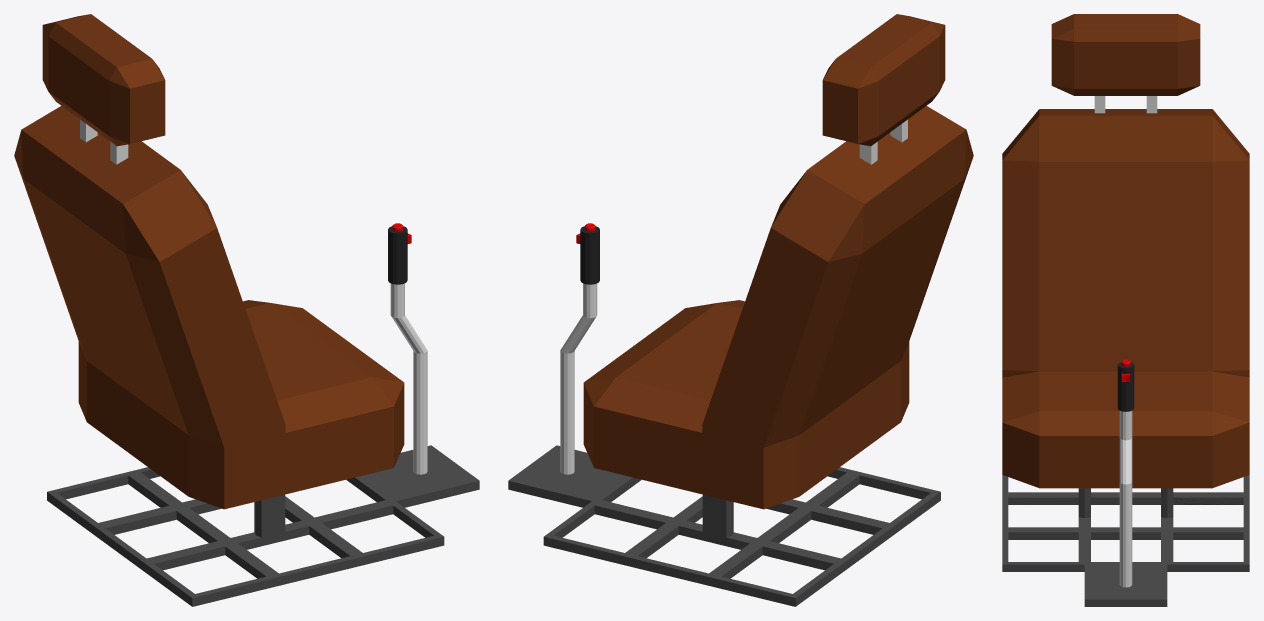
File: pilot_seat.glb
The picture shows the model from 3 angles, left to right: view 1: azimuth 30°, elevation 25°; view 2: azimuth 150°, elevation 25°; view 3: azimuth 270°, elevation 25°; orthographic projection. The views are drawn at different scales.
Visible parts, largest first — view 1: Cube.001; view 2: Cube.001; view 3: Cube.001.
Part boxes in pixels (x1=…): Cube.001: x1=14, y1=14, x2=479, y2=606; Cube.001: x1=508, y1=14, x2=973, y2=606; Cube.001: x1=1002, y1=14, x2=1249, y2=606.
Size of the model in its own units: 9.13 by 11.77 by 6.
